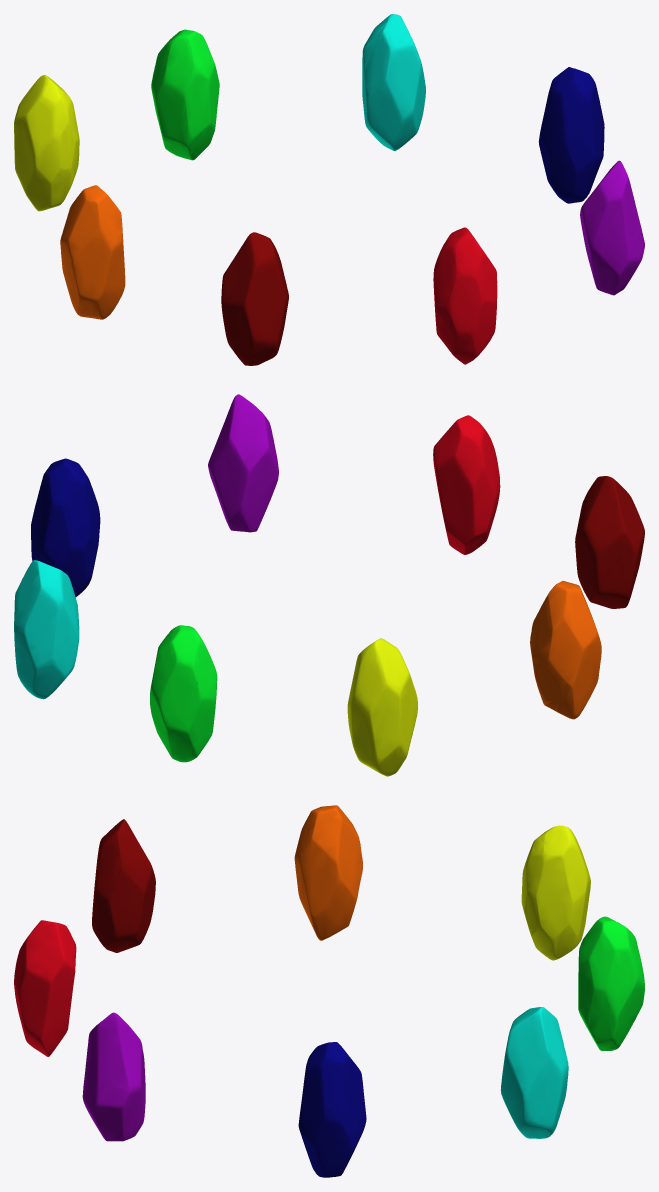
Rendered from cristales2.fbx.
The picture shows the model from 3 angles, top to bottom: view 1: azimuth 30°, elevation 25°; view 2: azimuth 150°, elevation 25°; view 3: azimuth 270°, elevation 25°; orthographic projection. The views are drawn at different scales.
Parts seen in each view (by area): view 1: Sphere.025, Sphere.021, Sphere.023, Sphere.019, Sphere.024, Sphere.026, Sphere.022, Sphere.020; view 2: Sphere.021, Sphere.025, Sphere.026, Sphere.024, Sphere.019, Sphere.022, Sphere.020, Sphere.023; view 3: Sphere.025, Sphere.023, Sphere.021, Sphere.026, Sphere.024, Sphere.022, Sphere.020, Sphere.019.
Part boxes in pixels (x1,y1,x2,y2): Sphere.025: (14,75,79,211); Sphere.021: (60,185,125,319); Sphere.023: (538,67,604,203); Sphere.019: (221,232,288,365); Sphere.024: (151,29,219,160); Sphere.026: (362,14,425,150); Sphere.022: (433,227,497,364); Sphere.020: (580,160,644,295); Sphere.021: (530,581,601,719); Sphere.025: (347,638,417,776); Sphere.026: (14,560,79,699); Sphere.024: (150,625,217,762); Sphere.019: (575,476,644,608); Sphere.022: (433,415,500,554); Sphere.020: (208,394,278,532); Sphere.023: (31,458,100,597); Sphere.025: (521,825,590,960); Sphere.023: (298,1042,366,1177); Sphere.021: (294,805,362,940); Sphere.026: (500,1007,568,1138); Sphere.024: (578,916,644,1050); Sphere.022: (14,920,76,1056); Sphere.020: (82,1012,145,1141); Sphere.019: (92,819,155,952).
Bounding box in the file's own units: 361 × 94.34 × 360.
